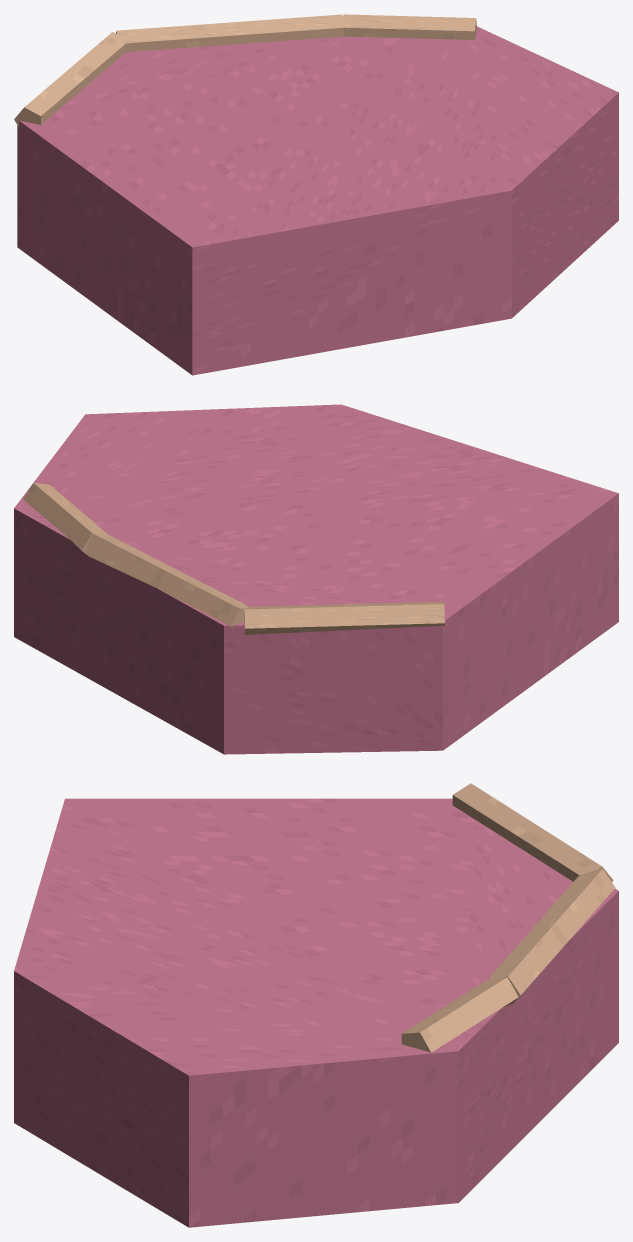
File: meat_mi-go.glb
3 views of the same model, one above another, from view 1: azimuth 30°, elevation 25°; view 2: azimuth 150°, elevation 25°; view 3: azimuth 270°, elevation 25° (orthographic). The views are drawn at different scales.
Visible parts, largest first — view 1: block_cut of meat, block_pale outer edge 1, block_pale outer edge 0, block_pale outer edge 2; view 2: block_cut of meat, block_pale outer edge 0, block_pale outer edge 1, block_pale outer edge 2; view 3: block_cut of meat, block_pale outer edge 1, block_pale outer edge 0, block_pale outer edge 2.
Boxes of the visible parts, <box> form: block_cut of meat: <box>17,26,618,375</box>; block_pale outer edge 1: <box>116,14,343,51</box>; block_pale outer edge 0: <box>14,32,126,126</box>; block_pale outer edge 2: <box>343,14,476,39</box>; block_cut of meat: <box>14,404,618,754</box>; block_pale outer edge 0: <box>244,601,444,634</box>; block_pale outer edge 1: <box>84,533,249,627</box>; block_pale outer edge 2: <box>23,482,107,554</box>; block_cut of meat: <box>14,798,618,1227</box>; block_pale outer edge 1: <box>488,868,615,1001</box>; block_pale outer edge 0: <box>452,783,613,882</box>; block_pale outer edge 2: <box>401,977,518,1052</box>.
Bounding box in the file's own units: 0.114 × 0.0322 × 0.1046.
1 material, 1 textured.
